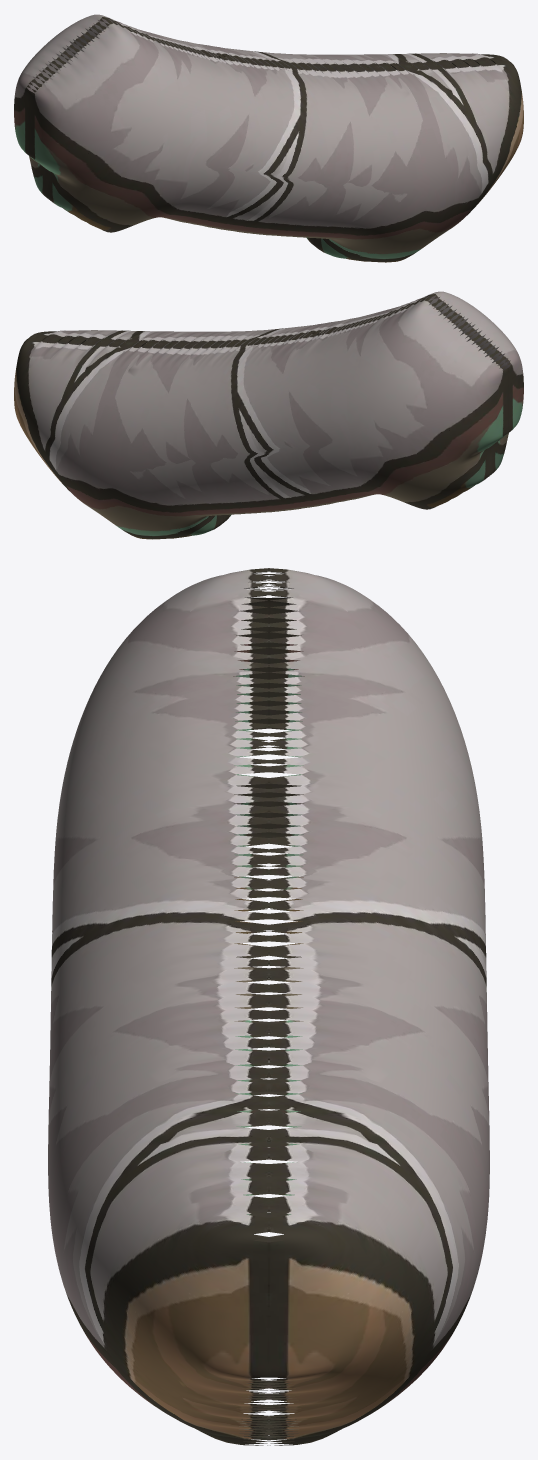
File: curved_barrier.glb
The picture shows the model from 3 angles, top to bottom: view 1: azimuth 30°, elevation 25°; view 2: azimuth 150°, elevation 25°; view 3: azimuth 270°, elevation 25°; orthographic projection. The views are drawn at different scales.
Parts seen in each view (by area): view 1: curved_barrier; view 2: curved_barrier; view 3: curved_barrier.
Part boxes in pixels (box(x1,y1,x2,y2)): curved_barrier: box(14, 14, 523, 262); curved_barrier: box(14, 291, 523, 539); curved_barrier: box(48, 568, 489, 1445).
Size of the model in its own units: 0.989 by 0.594 by 0.3936.
Materials: 1 (1 with a texture image).
